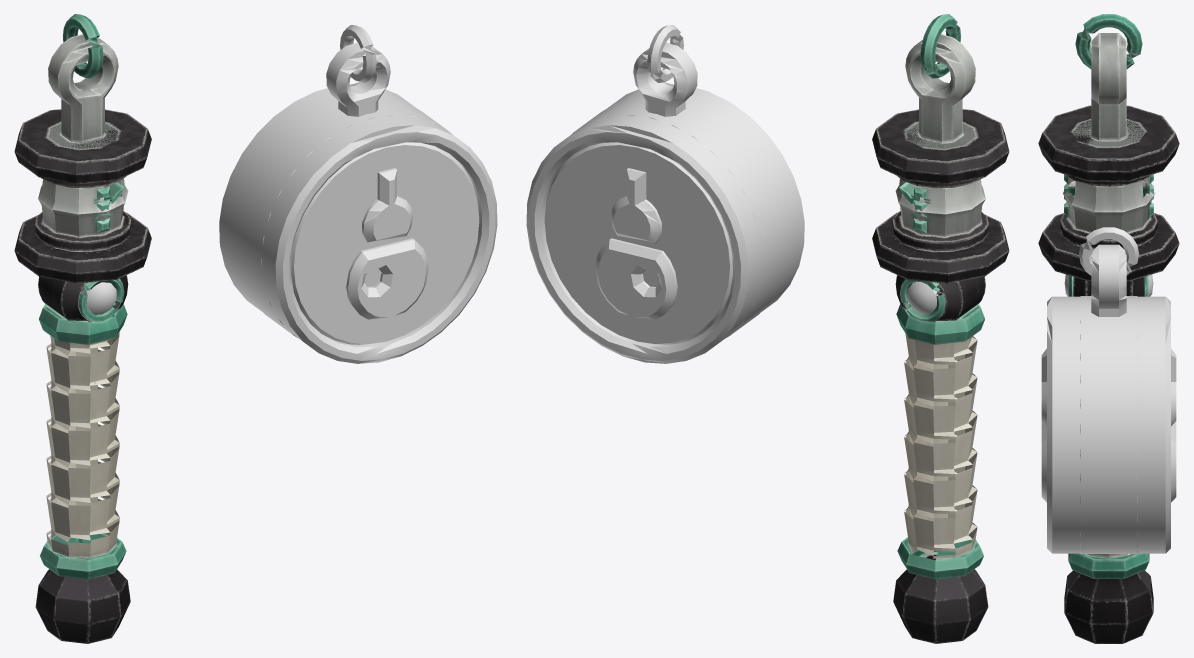
File: Swaying Gourd.fbx
3 renders of one model, left to right at view 1: azimuth 30°, elevation 25°; view 2: azimuth 150°, elevation 25°; view 3: azimuth 270°, elevation 25°, orthographic.
Visible parts, largest first — view 1: Swaying Gourd_Body, HeadWeight, HeadRim, HeadMotif, TopLug.001, TopRing.001, Swaying Gourd_Glow; view 2: Swaying Gourd_Body, HeadWeight, HeadRim, HeadMotif, TopLug.001, TopRing.001, Swaying Gourd_Glow; view 3: Swaying Gourd_Body, HeadRim, HeadWeight, TopLug.001, HeadMotif, TopRing.001.
Boxes of the visible parts, <box> form: Swaying Gourd_Body: <box>14,14,151,643</box>; HeadWeight: <box>233,95,479,344</box>; HeadRim: <box>219,84,497,363</box>; HeadMotif: <box>346,168,428,320</box>; TopLug.001: <box>326,42,390,116</box>; TopRing.001: <box>340,25,376,82</box>; Swaying Gourd_Glow: <box>86,282,116,314</box>; Swaying Gourd_Body: <box>872,14,1009,643</box>; HeadWeight: <box>544,95,790,344</box>; HeadRim: <box>526,84,804,363</box>; HeadMotif: <box>595,168,677,320</box>; TopLug.001: <box>633,42,697,116</box>; TopRing.001: <box>647,25,683,82</box>; Swaying Gourd_Glow: <box>907,281,938,314</box>; Swaying Gourd_Body: <box>1038,14,1179,643</box>; HeadRim: <box>1047,296,1170,553</box>; HeadWeight: <box>1080,296,1137,553</box>; TopLug.001: <box>1091,244,1126,316</box>; HeadMotif: <box>1041,348,1176,502</box>; TopRing.001: <box>1079,227,1138,275</box>.
Bounding box in the file's own units: 1.45 × 1.95 × 0.398.
